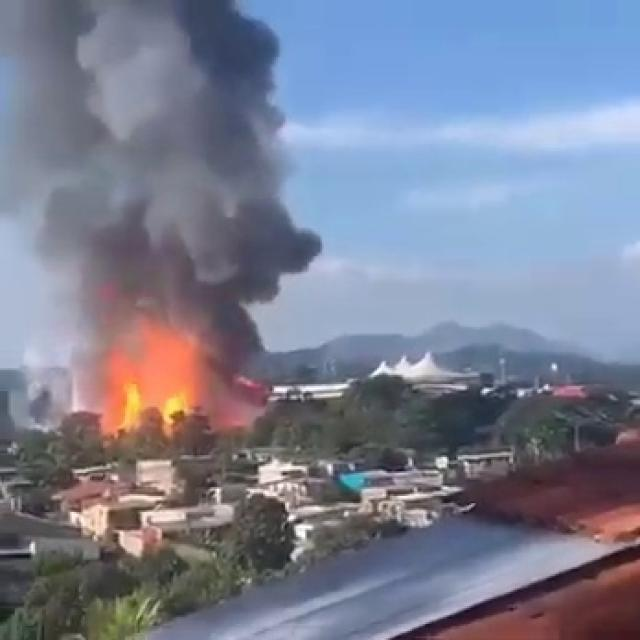Fire: (102, 330, 240, 440)
Smoke: (12, 6, 320, 348)
